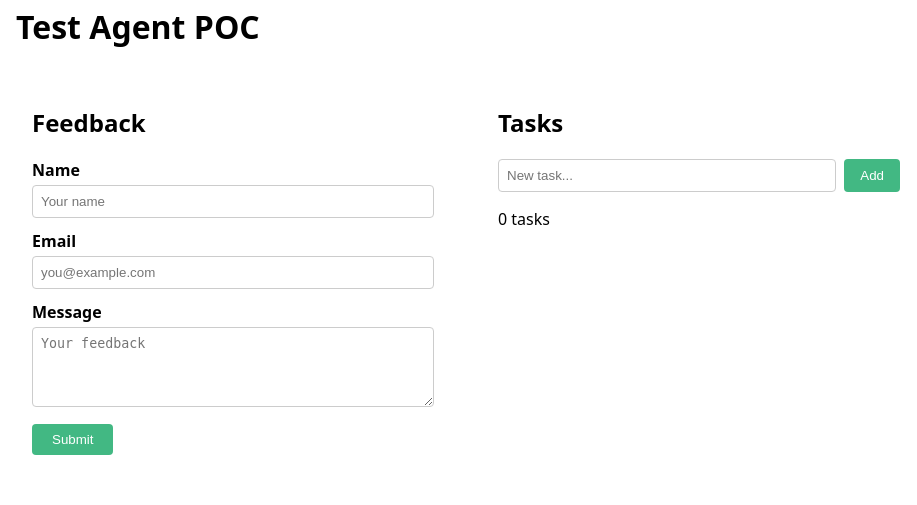
Feedback Form › shows an error when submitting an empty form
Click the button with class "submit-btn". click: (73,440)
box: [32,424,114,455]
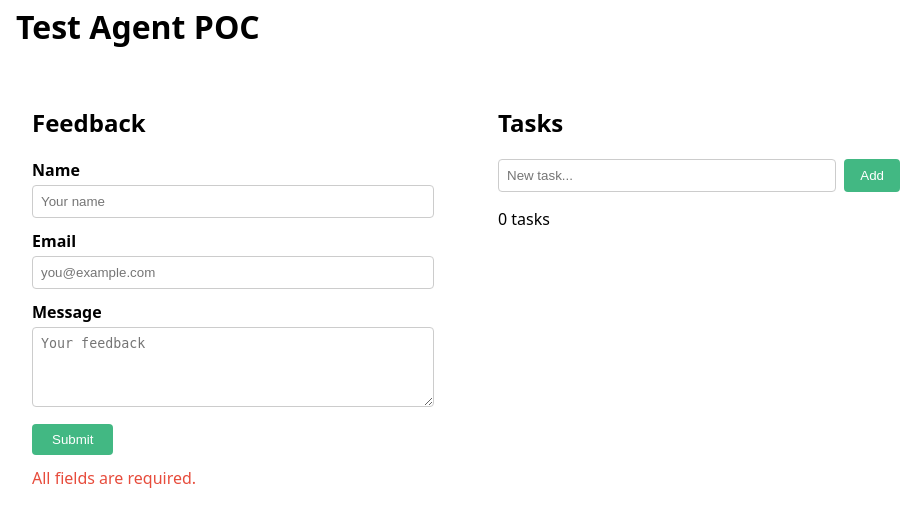
Check: the text "All fields are required." is shown, box [32,467,196,489]
